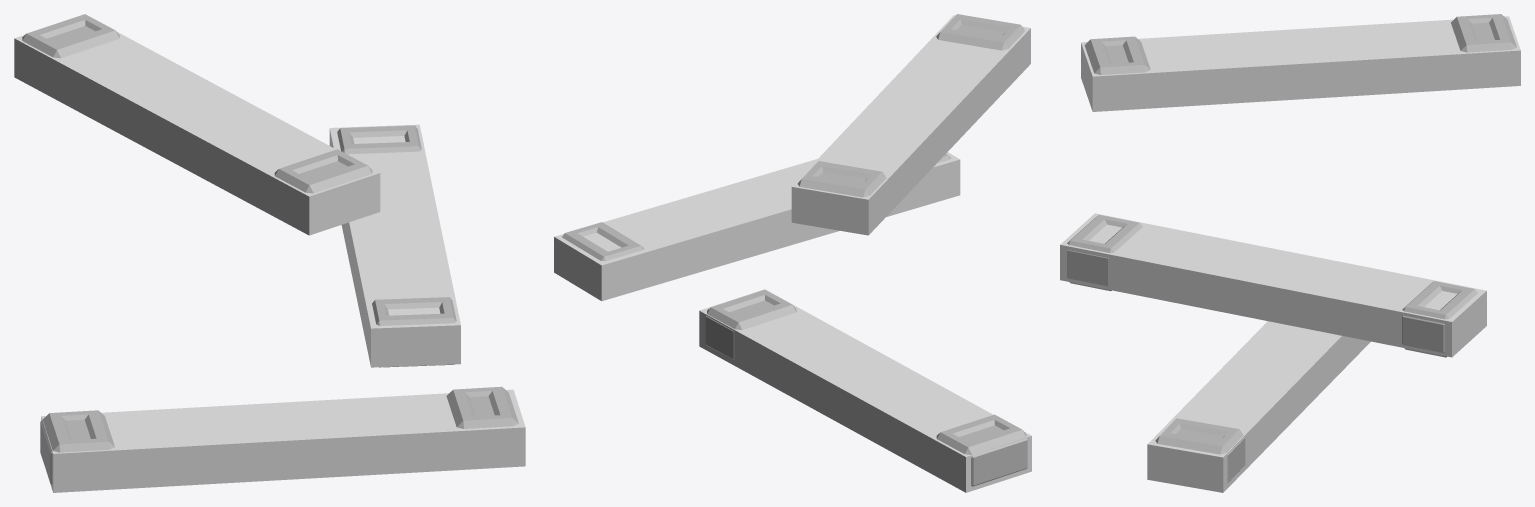
Rendered from Arena_Beams.fbx.
The picture shows the model from 3 angles, left to right: view 1: azimuth 30°, elevation 25°; view 2: azimuth 150°, elevation 25°; view 3: azimuth 270°, elevation 25°; orthographic projection. The views are drawn at different scales.
Parts seen in each view (by area): view 1: Beams_Col3, Beams_Col1, Beams_Col2, Cube.020, Cube.006, Cube.019; view 2: Beams_Col3, Beams_Col1, Beams_Col2, Cube.020, Cube.006, Cube.019; view 3: Beams_Col1, Beams_Col2, Beams_Col3, Cube.019, Cube.006, Cube.020.
Boxes of the visible parts, x1,y1,x2,y2 form: Beams_Col3: [41, 389, 525, 492]; Beams_Col1: [14, 32, 380, 235]; Beams_Col2: [329, 124, 460, 367]; Cube.020: [40, 386, 518, 484]; Cube.006: [22, 14, 372, 193]; Cube.019: [337, 125, 456, 367]; Beams_Col3: [699, 289, 1031, 492]; Beams_Col1: [791, 15, 1030, 235]; Beams_Col2: [554, 152, 960, 301]; Cube.020: [705, 289, 1027, 486]; Cube.006: [797, 14, 1024, 197]; Cube.019: [562, 154, 950, 260]; Beams_Col1: [1081, 16, 1520, 111]; Beams_Col2: [1060, 213, 1486, 357]; Beams_Col3: [1147, 321, 1370, 492]; Cube.019: [1067, 214, 1477, 357]; Cube.006: [1084, 14, 1516, 74]; Cube.020: [1155, 418, 1245, 483].
Size of the model in its own units: 2161 by 1706 by 2142.
